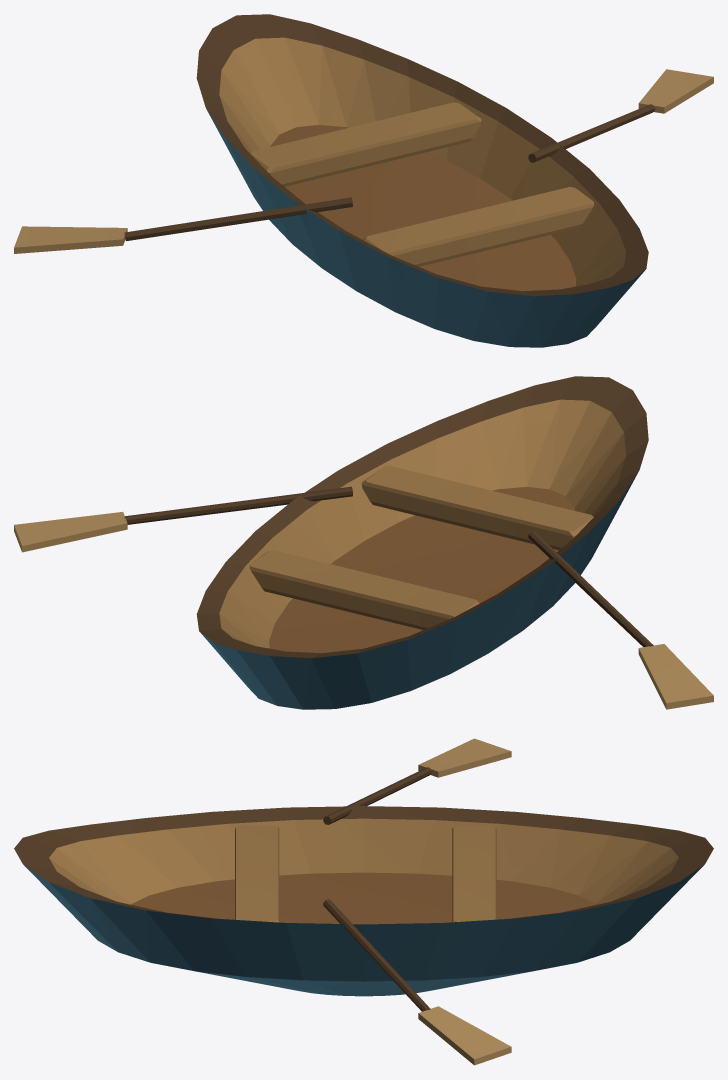
The model's file is Prop_Lakeside_Rowboat4m_001.glb.
3 views of the same model, one above another, from view 1: azimuth 30°, elevation 25°; view 2: azimuth 150°, elevation 25°; view 3: azimuth 270°, elevation 25° (orthographic). The views are drawn at different scales.
Visible parts, largest first — view 1: LK_Rowboat4m_Body; view 2: LK_Rowboat4m_Body; view 3: LK_Rowboat4m_Body.
Boxes of the visible parts, x1,y1,x2,y2 form: LK_Rowboat4m_Body: [14, 14, 713, 347]; LK_Rowboat4m_Body: [14, 376, 713, 709]; LK_Rowboat4m_Body: [14, 738, 713, 1065].
Bounding box in the file's own units: 4.12 × 0.8 × 3.8.
